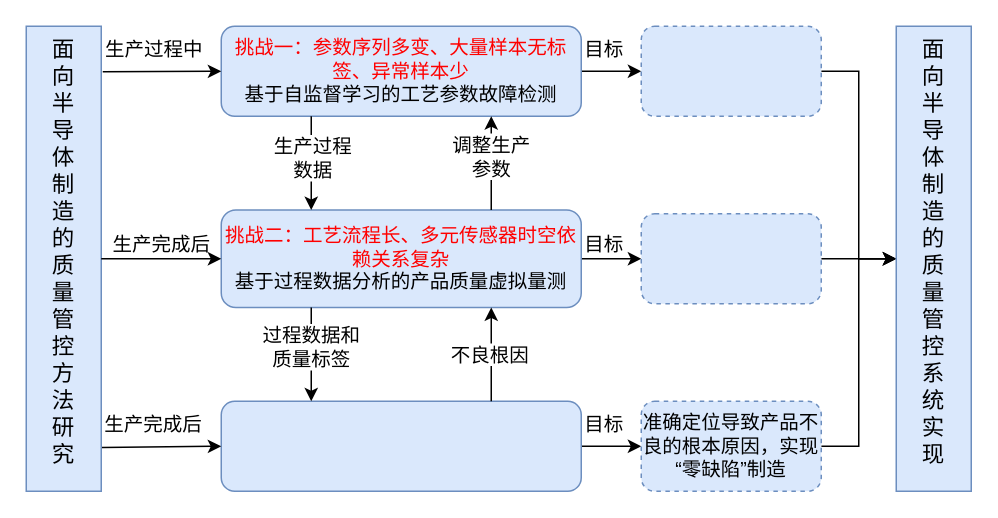
The diagram is 998 pixels wide and 518 high, and some of its shapes have lost their labels. The shapes that lost their labels are listed below. From the top down, each one's box as (x1, y1, x2, y2) in pixels, then its label:
(640, 25, 821, 116): 对单传感器参数序列进行故障检测，提前发现问题予以干预
(640, 212, 821, 304): 对生产过程数据分析建模预测产品质量，降低物理质检成本
(220, 400, 581, 491): 挑战三：工艺参数维度高导致不良产品和生产参数因果关联困难 基于机器学习可解释性的不良根因定位
